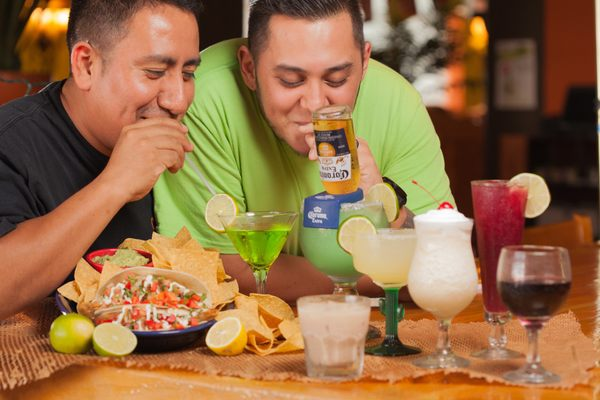pizza: (470, 178, 528, 327), (296, 292, 372, 380)
steak: (49, 312, 94, 354)
sushi: (86, 265, 236, 353), (91, 291, 235, 353)
taco: (205, 313, 248, 356), (91, 322, 139, 357)
